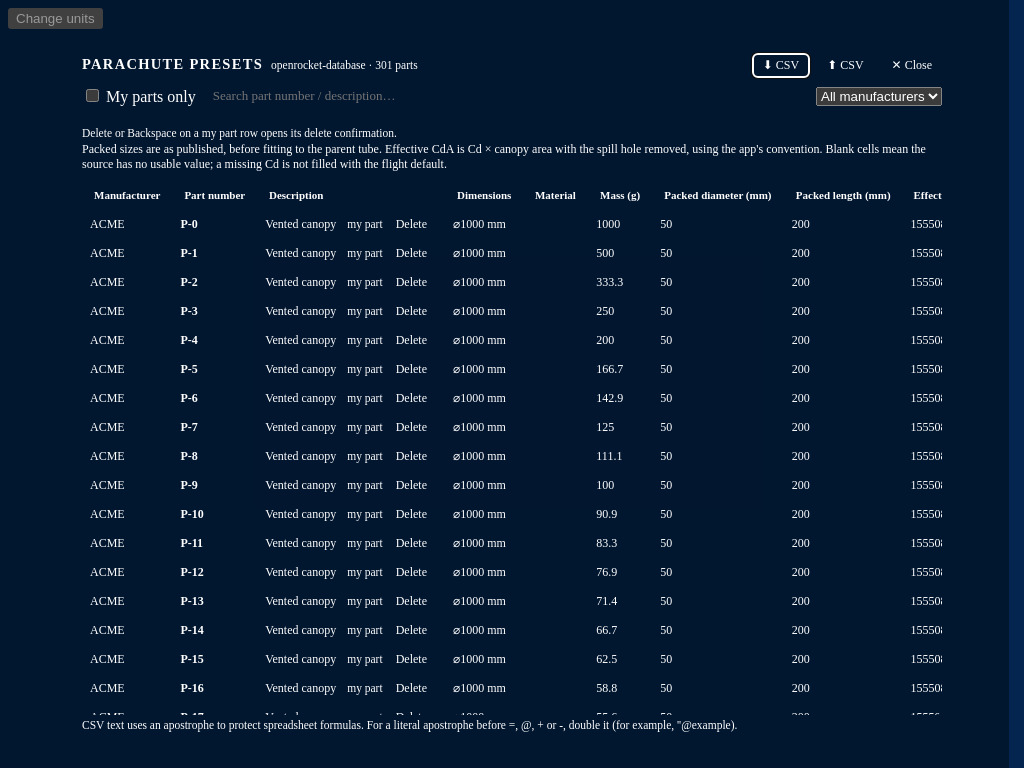
Test: N026 parachute preset comparisons › sorts before the 300-row display cap and keeps the full filtered list available
Click the button "Mass (g)". click: (620, 195)
box: [596,185,644,205]
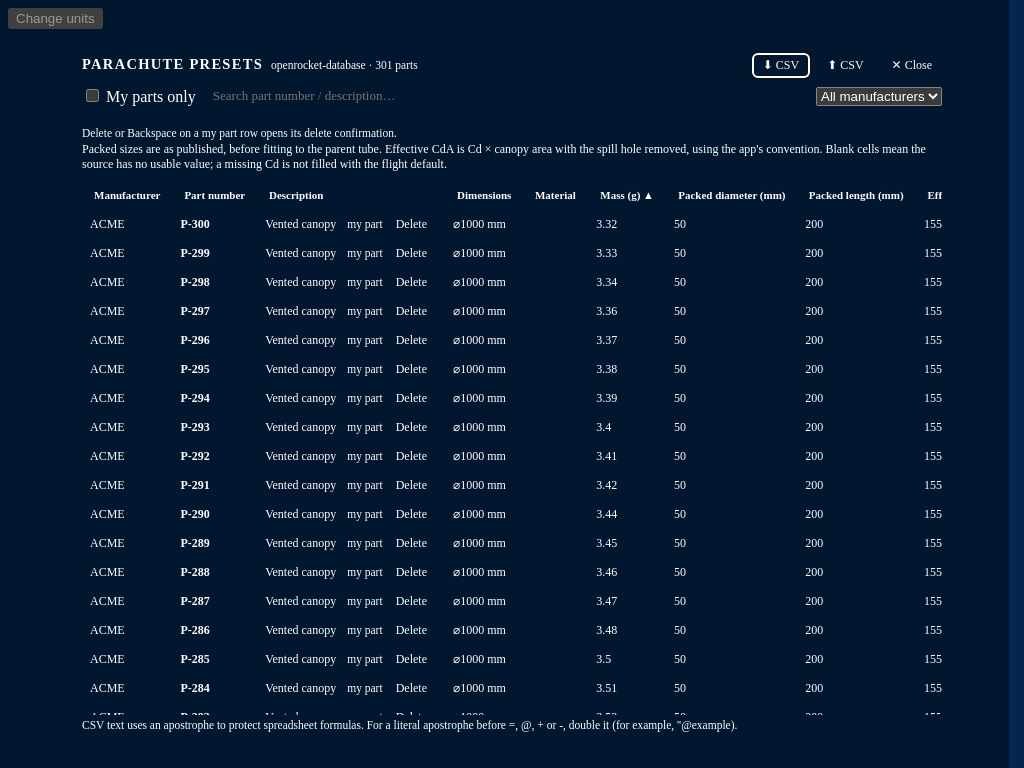
Check: the cell "P-300" is shown, box [172,210,257,239]
